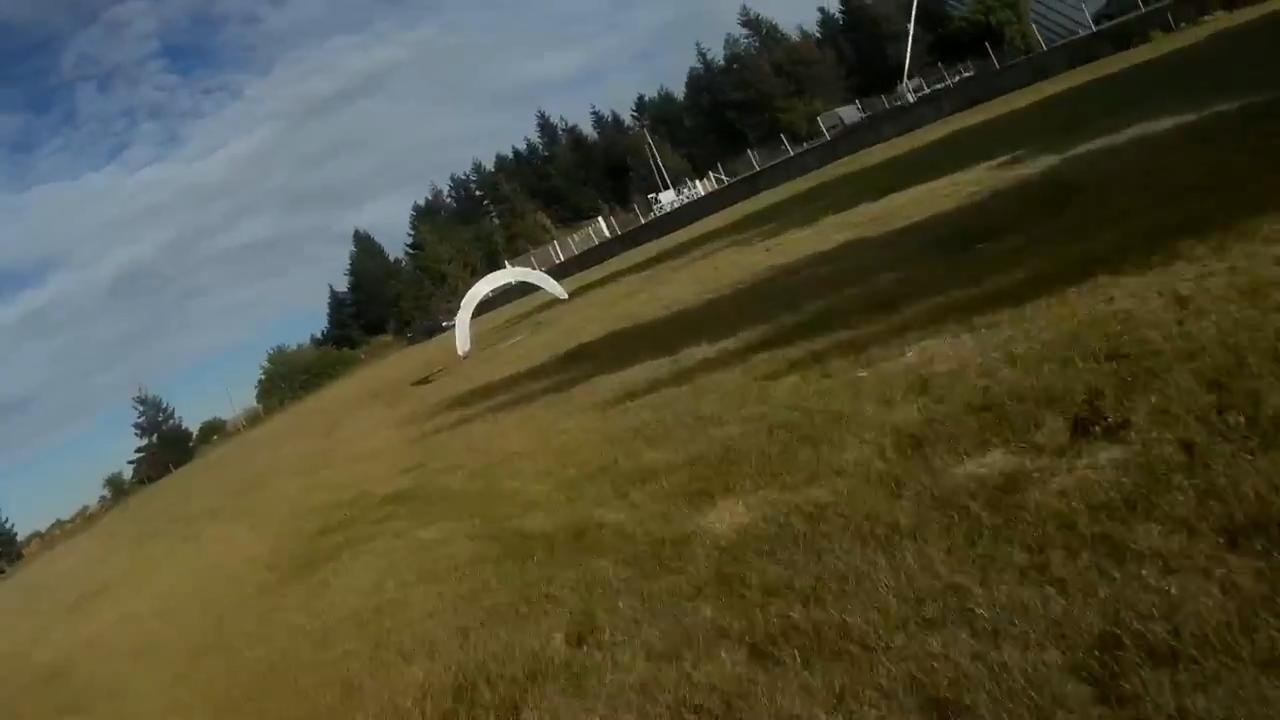gate: (453, 266, 568, 355)
